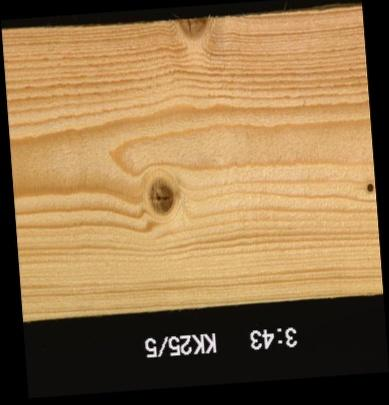dry_knot: (364, 181, 374, 194)
edge_knot: (174, 14, 216, 43)
sound_knot: (145, 177, 176, 218)
